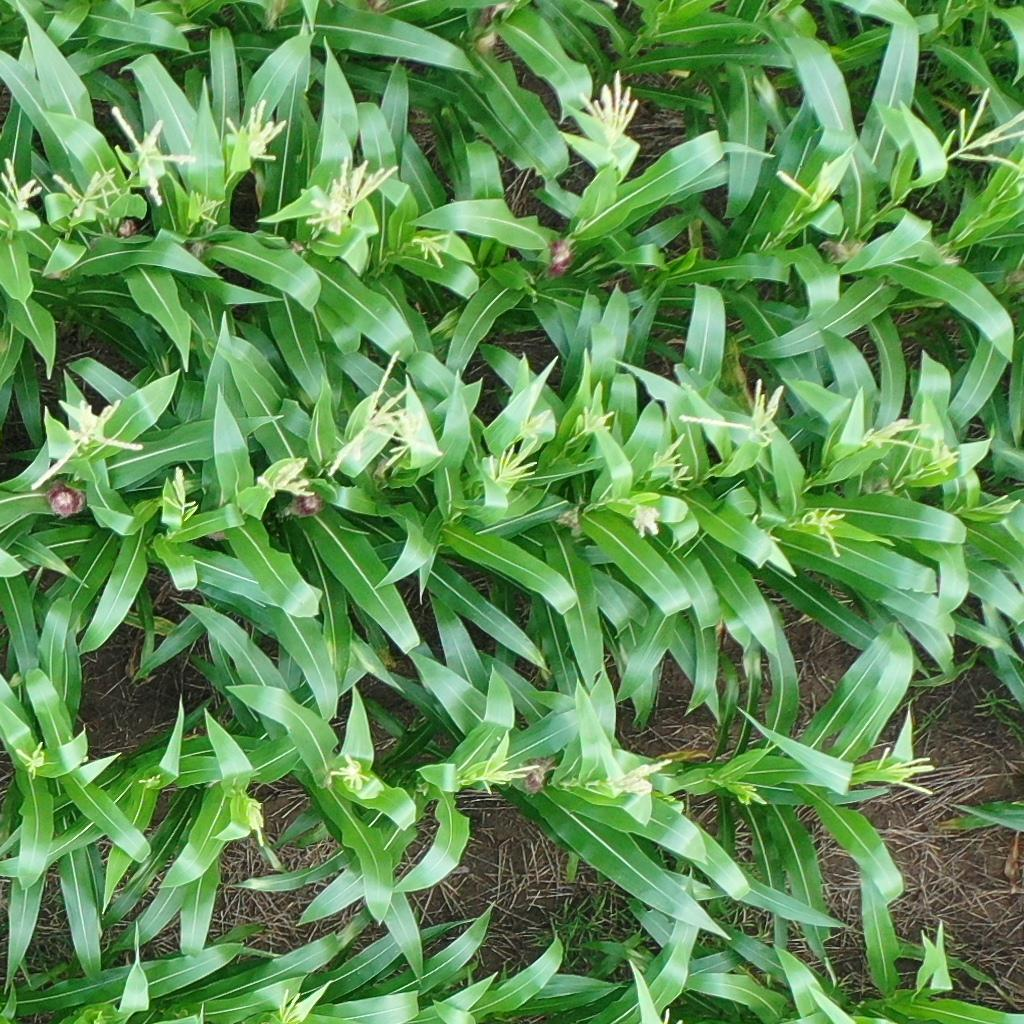Tassel: (325, 346, 415, 479), (28, 397, 146, 490), (110, 106, 194, 206), (307, 154, 402, 234), (680, 379, 784, 444), (955, 88, 1024, 174), (579, 70, 639, 152), (224, 100, 289, 163), (50, 164, 120, 218), (598, 756, 675, 801), (384, 413, 445, 469), (872, 745, 936, 796), (855, 416, 933, 455), (777, 162, 837, 208), (800, 506, 848, 561), (254, 462, 318, 503), (479, 754, 539, 795), (1, 156, 44, 210), (489, 440, 537, 487), (919, 430, 960, 480), (161, 467, 198, 512), (629, 498, 664, 542), (326, 753, 370, 788), (243, 796, 271, 849), (11, 740, 48, 780), (413, 232, 452, 268), (651, 433, 688, 468), (578, 405, 618, 435), (731, 780, 771, 810), (195, 192, 228, 226), (272, 989, 303, 1024), (978, 492, 1021, 517), (515, 411, 550, 439), (665, 466, 694, 490), (137, 775, 163, 791)
